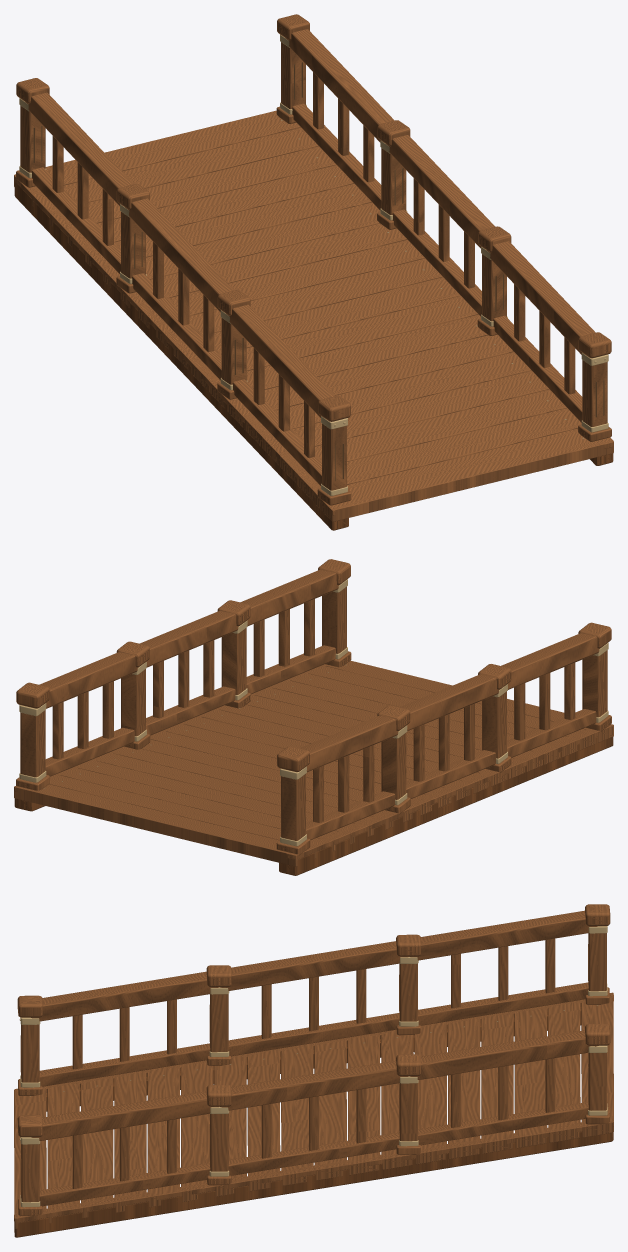
Rendered from wind_walkway.glb.
3 views of the same model, one above another, from view 1: azimuth 30°, elevation 25°; view 2: azimuth 150°, elevation 25°; view 3: azimuth 270°, elevation 25° (orthographic). The views are drawn at different scales.
Visible parts, largest first — view 1: walkway_DeckOak, walkway_Oak, walkway_UnderOak, walkway_Brass, walkway_Groove; view 2: walkway_Oak, walkway_DeckOak, walkway_UnderOak, walkway_Brass; view 3: walkway_Oak, walkway_DeckOak, walkway_UnderOak, walkway_Brass.
Boxes of the visible parts, bbox=[...] form: walkway_DeckOak: bbox=[14, 110, 613, 521]; walkway_Oak: bbox=[14, 14, 613, 515]; walkway_UnderOak: bbox=[14, 182, 613, 530]; walkway_Brass: bbox=[19, 34, 608, 495]; walkway_Groove: bbox=[33, 62, 605, 480]; walkway_Oak: bbox=[14, 559, 611, 859]; walkway_DeckOak: bbox=[14, 660, 613, 866]; walkway_UnderOak: bbox=[14, 737, 613, 875]; walkway_Brass: bbox=[19, 579, 608, 846]; walkway_Oak: bbox=[14, 904, 613, 1222]; walkway_DeckOak: bbox=[14, 993, 613, 1228]; walkway_UnderOak: bbox=[14, 1007, 613, 1237]; walkway_Brass: bbox=[20, 926, 607, 1207].
Size of the model in its own units: 0.462 by 0.339 by 0.899.
Materials: 6 (3 with a texture image).
